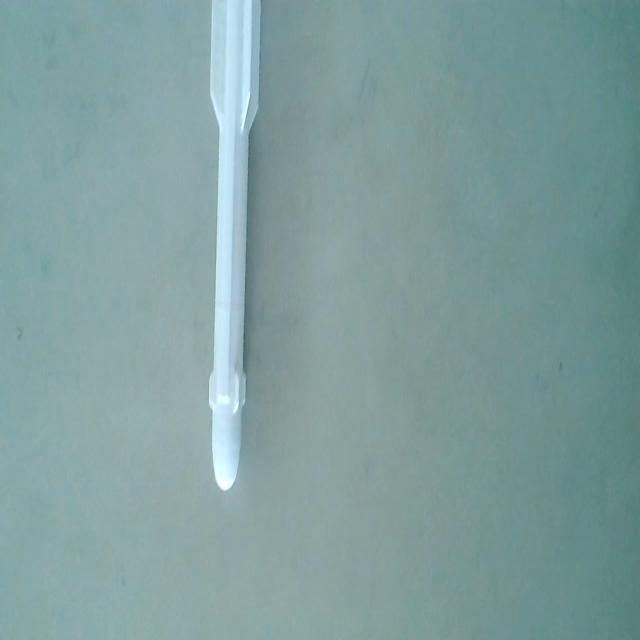Rocket: (202, 0, 265, 495)
